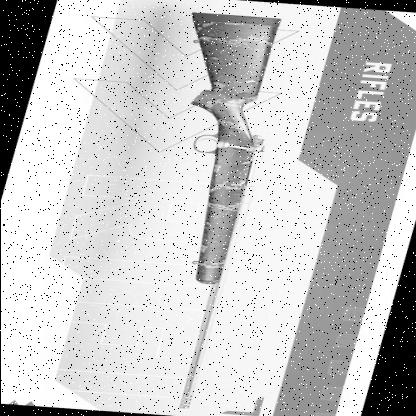rifle: (77, 9, 313, 416)
